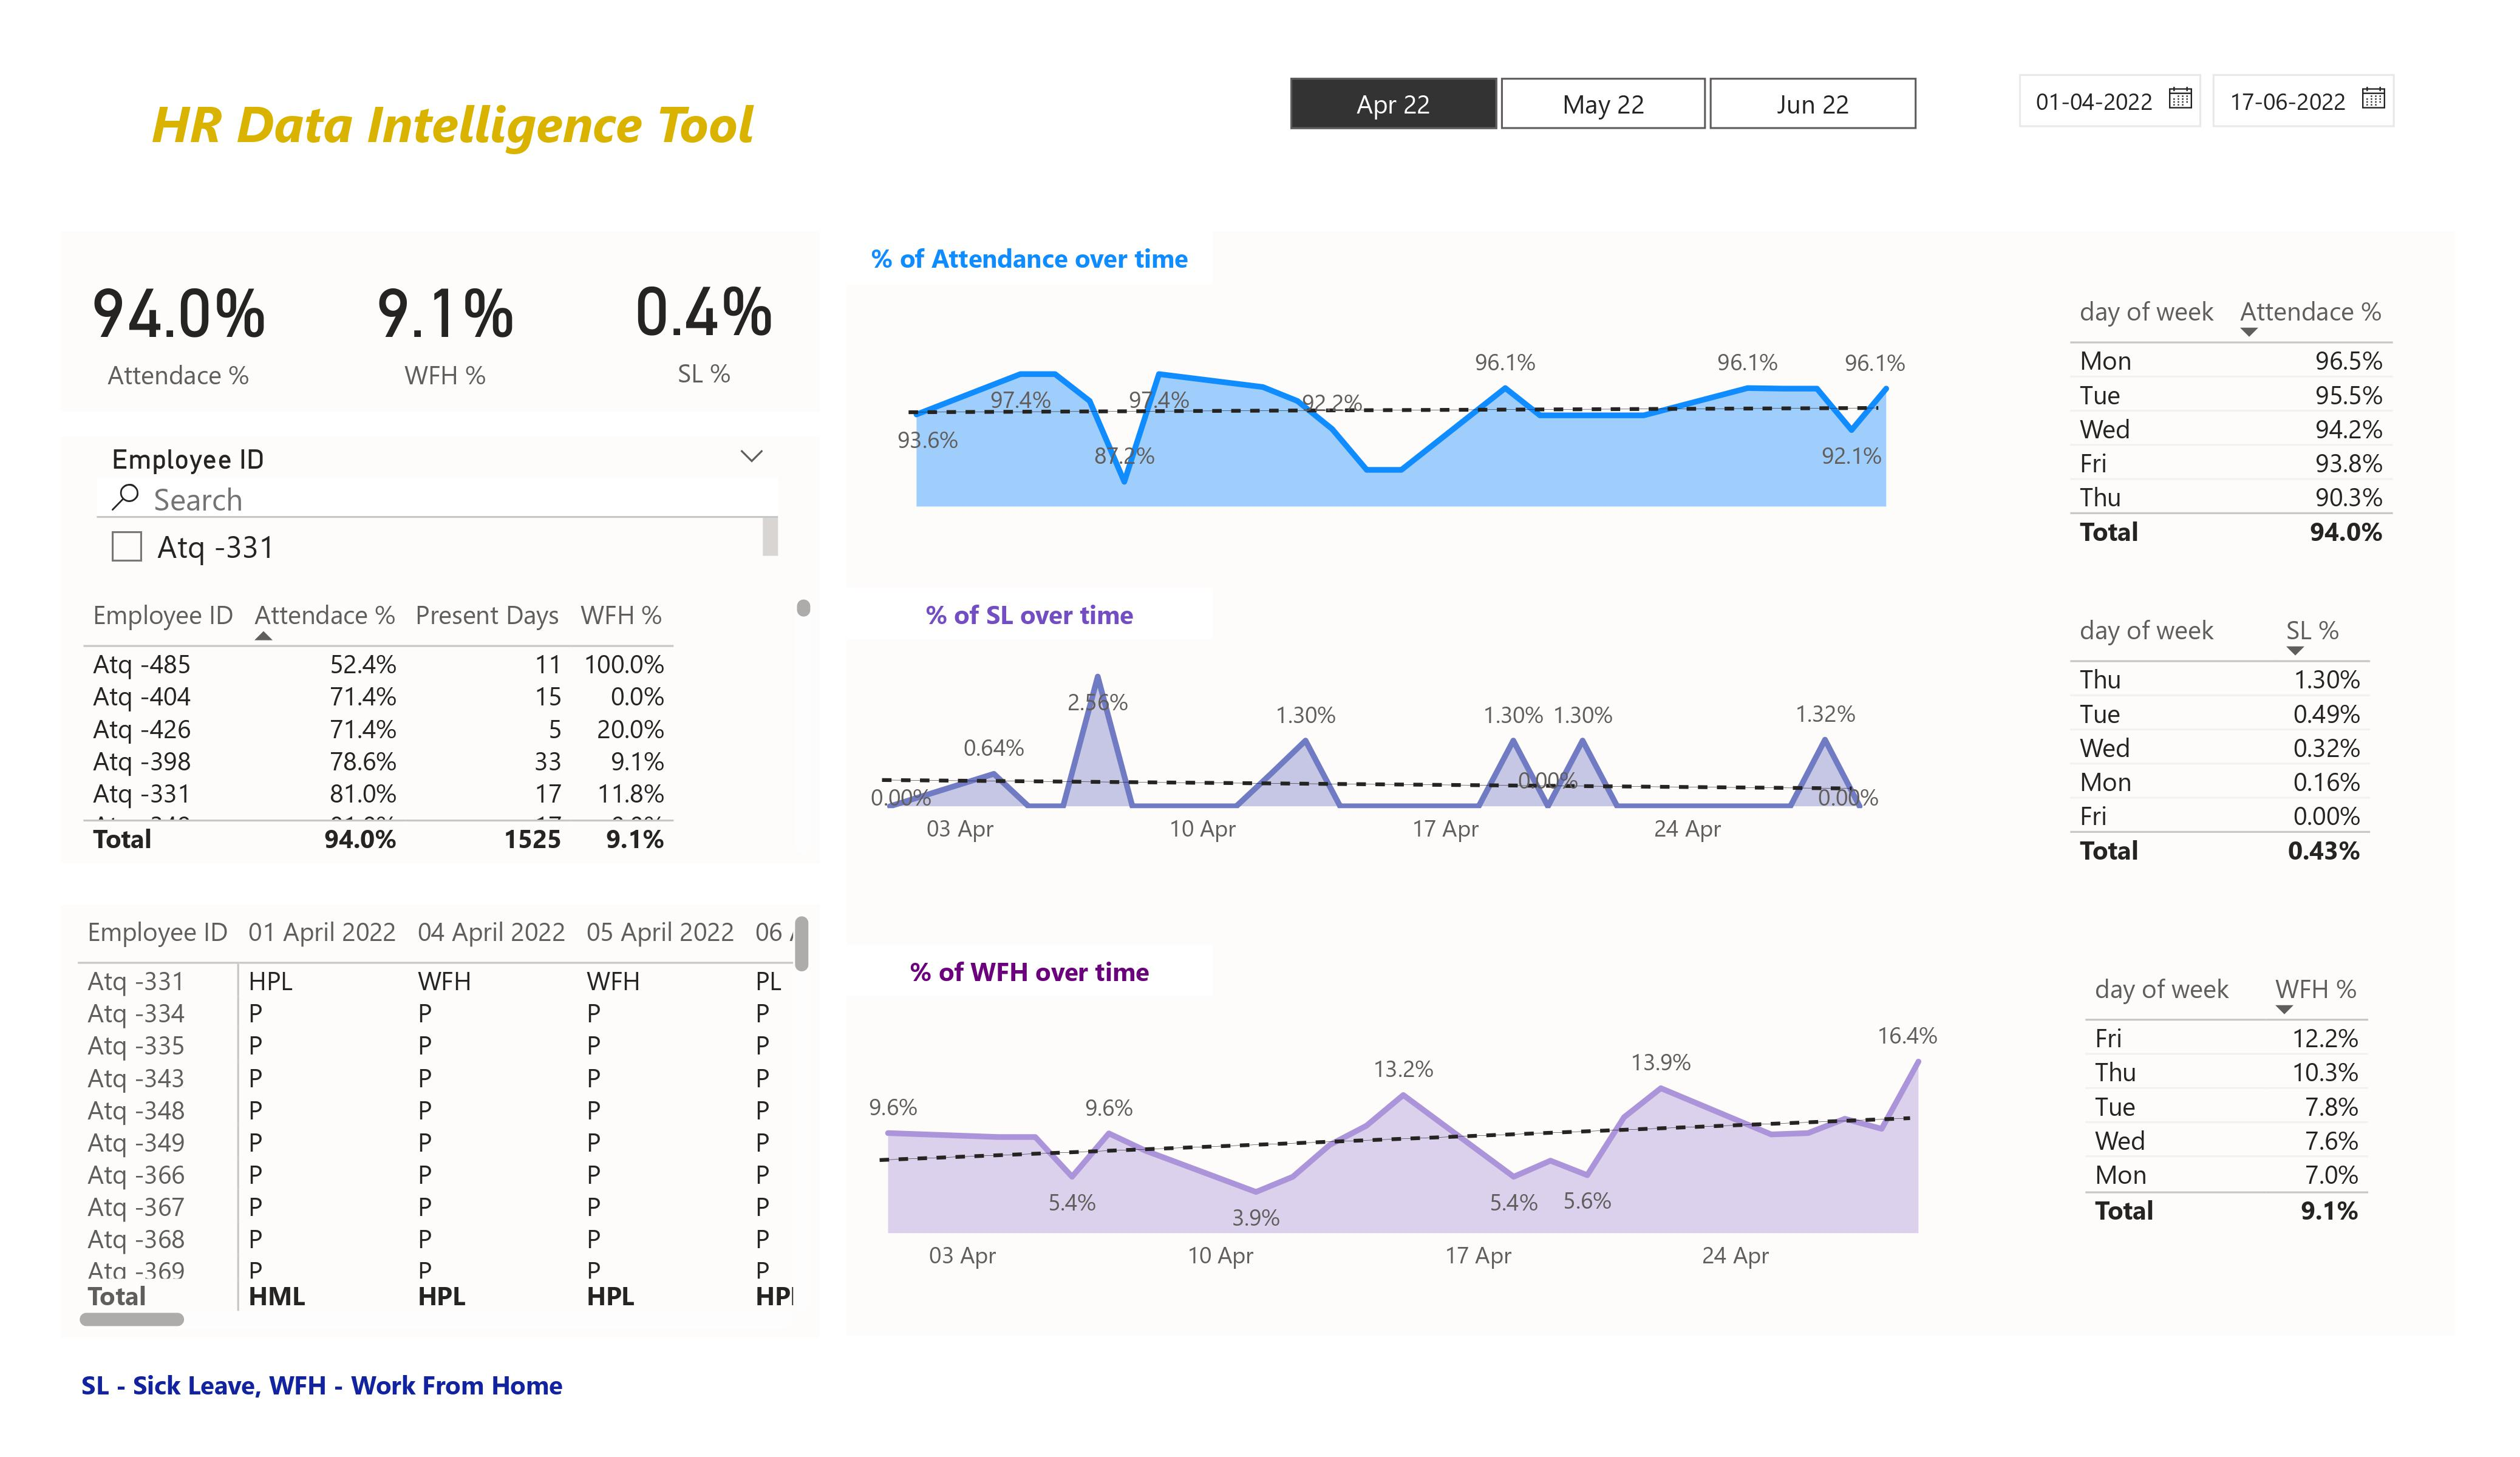

What the dashboard file says about the page in this screenshot:
{"tool":"powerbi","page":{"name":"Presence Insights","canvas":[1280,720],"ordinal":0},"visuals":[{"type":"textbox","box":[7.8,205.6,399.9,225.5],"z":0},{"type":"textbox","box":[7.8,453.3,399.8,227.6],"z":1000},{"type":"textbox","box":[422.3,97.9,848.1,582.3],"z":2000},{"type":"textbox","box":[7.8,98,399.9,95.4],"z":3000},{"type":"tableEx","fields":{"Values":["Final Data.Employee ID","Measures (2).Attendace %","Measures (2).Present Days","Measures (2).WFH %"]},"box":[13.8,286.3,395,144.5],"z":4000},{"type":"slicer","fields":{"Values":["Final Data.Date"]},"box":[1027.3,5.2,252.7,46.3],"z":5000},{"type":"slicer","fields":{"Values":["Final Data.MMM YY"]},"box":[630.4,10.5,379.5,35.8],"z":6000},{"type":"areaChart","fields":{"Category":["Final Data.MMM YY","Final Data.Date"],"Y":["Measures (2).WFH %"]},"box":[420.7,502.3,589,153.5],"z":7000},{"type":"areaChart","fields":{"Category":["Final Data.WeekNo","Final Data.Date"],"Y":["Measures (2).Attendace %"]},"box":[444.1,144.9,540.4,103.2],"z":8000},{"type":"card","fields":{"Values":["Measures (2).Attendace %"]},"box":[7.8,98,124,96.3],"z":9000},{"type":"card","fields":{"Values":["Measures (2).WFH %"]},"box":[141.4,98,138.8,96.3],"z":10000},{"type":"areaChart","fields":{"Category":["Final Data.MMM YY","Final Data.Date"],"Y":["Measures (2).SL %"]},"box":[422.5,307.1,556,124],"z":11000},{"type":"card","fields":{"Values":["Measures (2).SL %"]},"box":[286.3,97.2,121.4,96.3],"z":12000},{"type":"textbox","box":[22,0,385.4,71.6],"z":13000},{"type":"textbox","box":[422.4,98.2,192.5,27.5],"z":14000},{"type":"textbox","box":[422.5,286.3,192.6,26.9],"z":15000},{"type":"textbox","box":[422.1,473.7,192.6,27.2],"z":16000},{"type":"pivotTable","fields":{"Rows":["Final Data.Employee ID"],"Columns":["Final Data.Date"],"Values":["Min(Final Data.Value)"]},"box":[11.7,453.3,395.9,227.6],"z":17000},{"type":"textbox","box":[13.6,691.6,289.8,28.2],"z":18000},{"type":"tableEx","fields":{"Values":["Final Data.day of week","Measures (2).Attendace %"]},"box":[1060.9,125.8,209.9,145.7],"z":19000},{"type":"tableEx","fields":{"Values":["Final Data.day of week","Measures (2).SL %"]},"box":[1060.9,294.1,191.7,167.4],"z":20000},{"type":"tableEx","fields":{"Values":["Final Data.day of week","Measures (2).WFH %"]},"box":[1068.7,483.2,170,167.4],"z":21000},{"type":"slicer","fields":{"Values":["Final Data.Employee ID"]},"box":[22,205.1,368.9,79.8],"z":22000}]}

Visuals, with their boxes in screenshot pixels (x1, y1, x2, y2):
textbox: box=[60, 436, 819, 863]
textbox: box=[60, 906, 819, 1337]
textbox: box=[847, 231, 2456, 1336]
textbox: box=[60, 231, 819, 412]
tableEx - Final Data.Employee ID x Measures (2).Attendace %: box=[72, 589, 821, 863]
slicer - Final Data.Date: box=[1995, 55, 2474, 143]
slicer - Final Data.MMM YY: box=[1242, 66, 1962, 134]
areaChart - Final Data.MMM YY x Final Data.Date: box=[844, 999, 1961, 1289]
areaChart - Final Data.WeekNo x Final Data.Date: box=[888, 321, 1914, 516]
card - Measures (2).Attendace %: box=[60, 231, 296, 414]
card - Measures (2).WFH %: box=[314, 231, 577, 414]
areaChart - Final Data.MMM YY x Final Data.Date: box=[847, 628, 1902, 863]
card - Measures (2).SL %: box=[589, 230, 819, 413]
textbox: box=[87, 46, 819, 182]
textbox: box=[847, 232, 1213, 284]
textbox: box=[847, 589, 1213, 640]
textbox: box=[846, 944, 1212, 996]
pivotTable - Final Data.Employee ID x Final Data.Date: box=[68, 906, 819, 1337]
textbox: box=[72, 1357, 621, 1411]
tableEx - Final Data.day of week x Measures (2).Attendace %: box=[2059, 284, 2457, 560]
tableEx - Final Data.day of week x Measures (2).SL %: box=[2059, 603, 2422, 921]
tableEx - Final Data.day of week x Measures (2).WFH %: box=[2074, 962, 2396, 1280]
slicer - Final Data.Employee ID: box=[87, 435, 788, 586]
